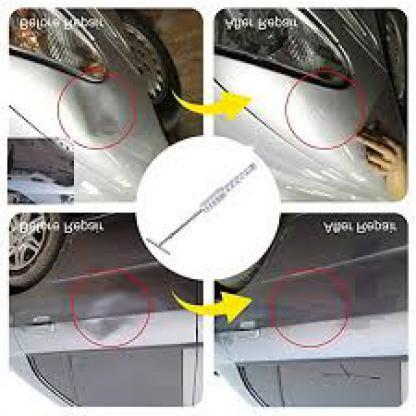dent: (74, 281, 145, 346), (65, 82, 124, 144)
